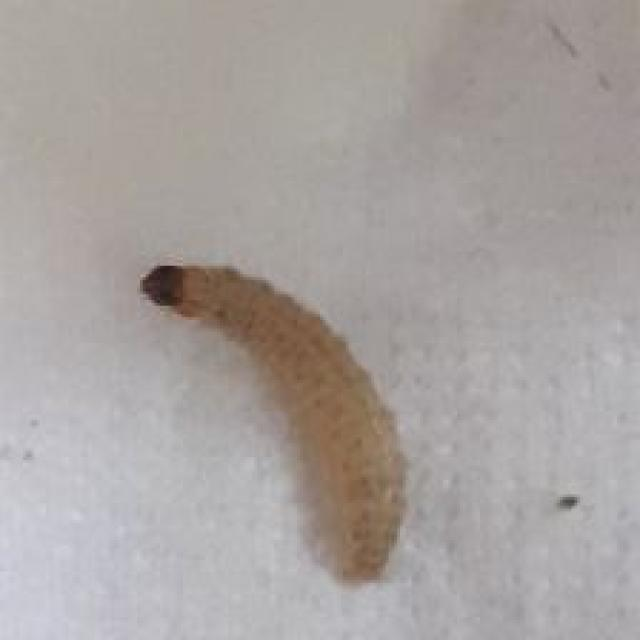white mucus: (113, 228, 452, 610)
